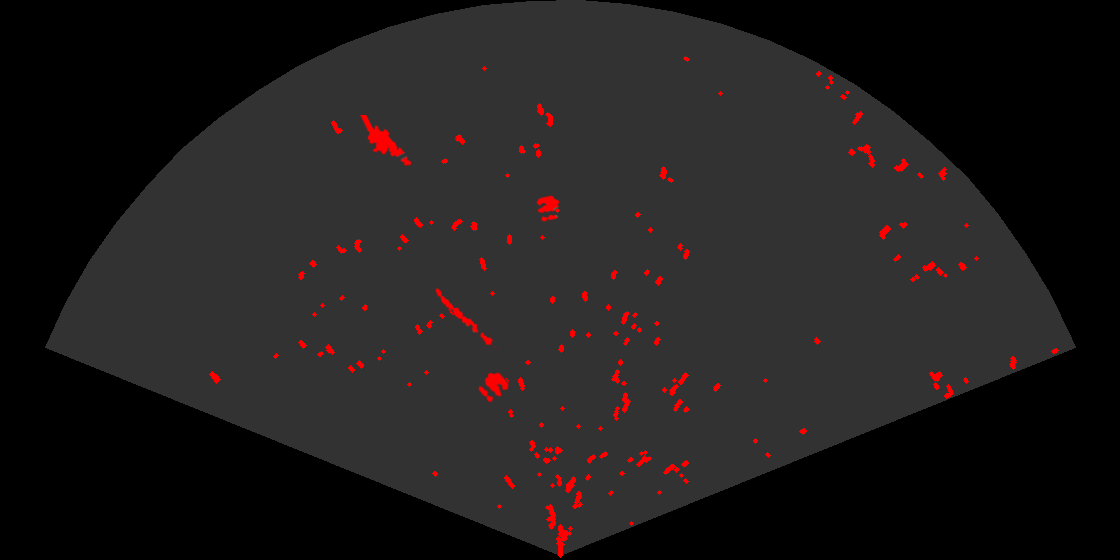ball: (477, 371, 510, 404), (534, 194, 561, 223)
chain: (434, 287, 498, 352)
frogman: (358, 115, 415, 176)
